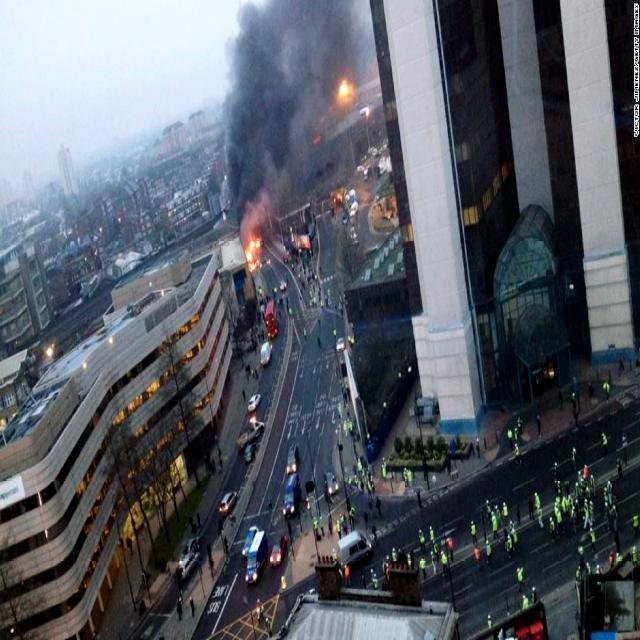Fire: (238, 223, 262, 278), (332, 62, 356, 104)
Smoke: (217, 0, 336, 216)
